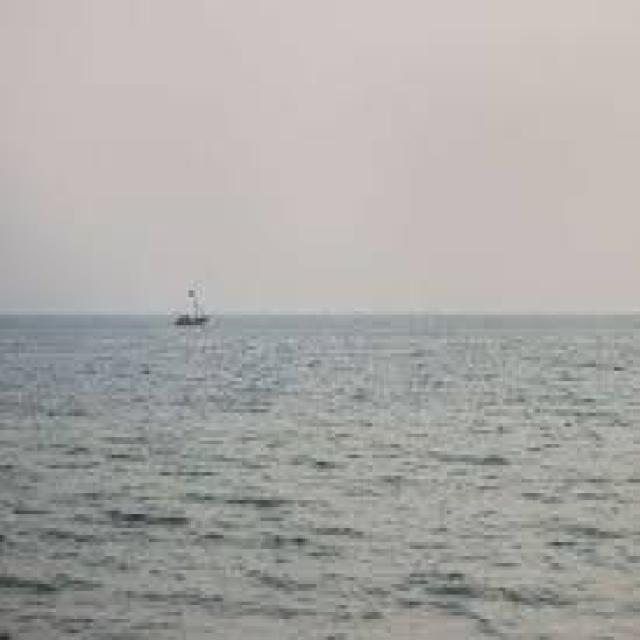fishing boat: (162, 277, 216, 333)
